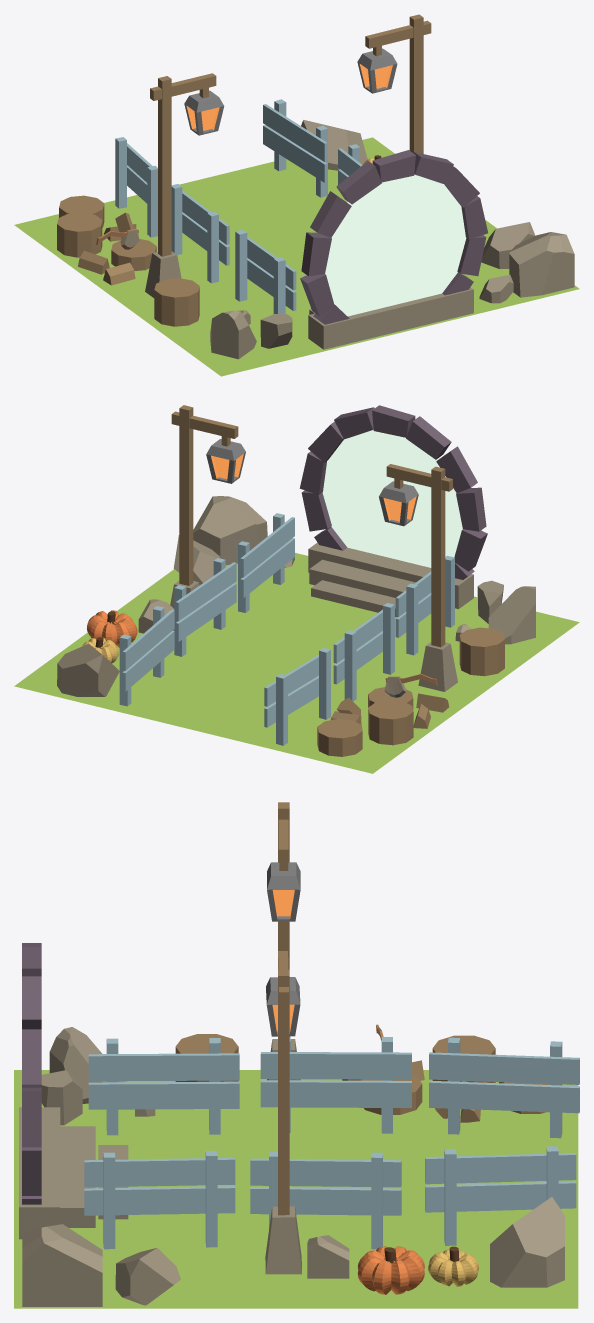
File: portal-normalized.glb
The picture shows the model from 3 angles, top to bottom: view 1: azimuth 30°, elevation 25°; view 2: azimuth 150°, elevation 25°; view 3: azimuth 270°, elevation 25°; orthographic projection. The views are drawn at different scales.
Parts seen in each view (by area): view 1: Plane, portalLight, Cube.026, Cube.009, Cube.003, poleChain, Cube.002, Cube.001, poleChain.001, Cube.006, Cylinder.003, Cylinder.004 (+22 smaller); view 2: Plane, portalLight, Cube.006, poleChain.001, poleChain, Cube.004, Cube.001, Cube.009, Cube.005, Cube.003, Cube.026, Cube.002 (+24 smaller); view 3: Plane, Cube.005, Cube.002, Cube.006, Cube.003, Cube.001, Cube.004, Cube.009, Cube.010, Cube.026, poleChain.001, Cube.027 (+16 smaller).
Boxes of the visible parts, x1,y1,x2,y2 form: Plane: (14,137,579,376); portalLight: (325,174,466,316); Cube.026: (308,287,473,349); Cube.009: (509,232,574,297); Cube.003: (263,99,327,197); poleChain: (150,73,216,256); Cube.002: (235,230,296,314); Cube.001: (171,184,229,283); poleChain.001: (365,17,431,153); Cube.006: (115,137,157,237); Cylinder.003: (154,278,199,326); Cylinder.004: (57,212,102,257); Plane: (14,553,579,773); portalLight: (322,430,462,567); Cube.006: (264,648,330,745); poleChain.001: (171,408,238,585); poleChain: (386,464,452,647); Cube.004: (174,558,236,656); Cube.001: (333,603,394,701); Cube.009: (193,496,267,565); Cube.005: (238,513,294,612); Cube.003: (119,606,174,706); Cube.026: (308,542,473,609); Cube.002: (395,555,454,655); Plane: (14,1070,578,1308); Cube.005: (84,1150,235,1249); Cube.002: (88,1038,239,1135); Cube.006: (429,1037,579,1138); Cube.003: (425,1146,576,1245); Cube.001: (260,1036,411,1133); Cube.004: (250,1151,401,1249); Cube.009: (22,1224,102,1306); Cube.010: (490,1197,564,1287); Cube.026: (19,1107,60,1239); poleChain.001: (278,951,289,1215); Cube.027: (60,1126,95,1227).
Bounding box in the file's own units: 4 × 2.3 × 4.01.
